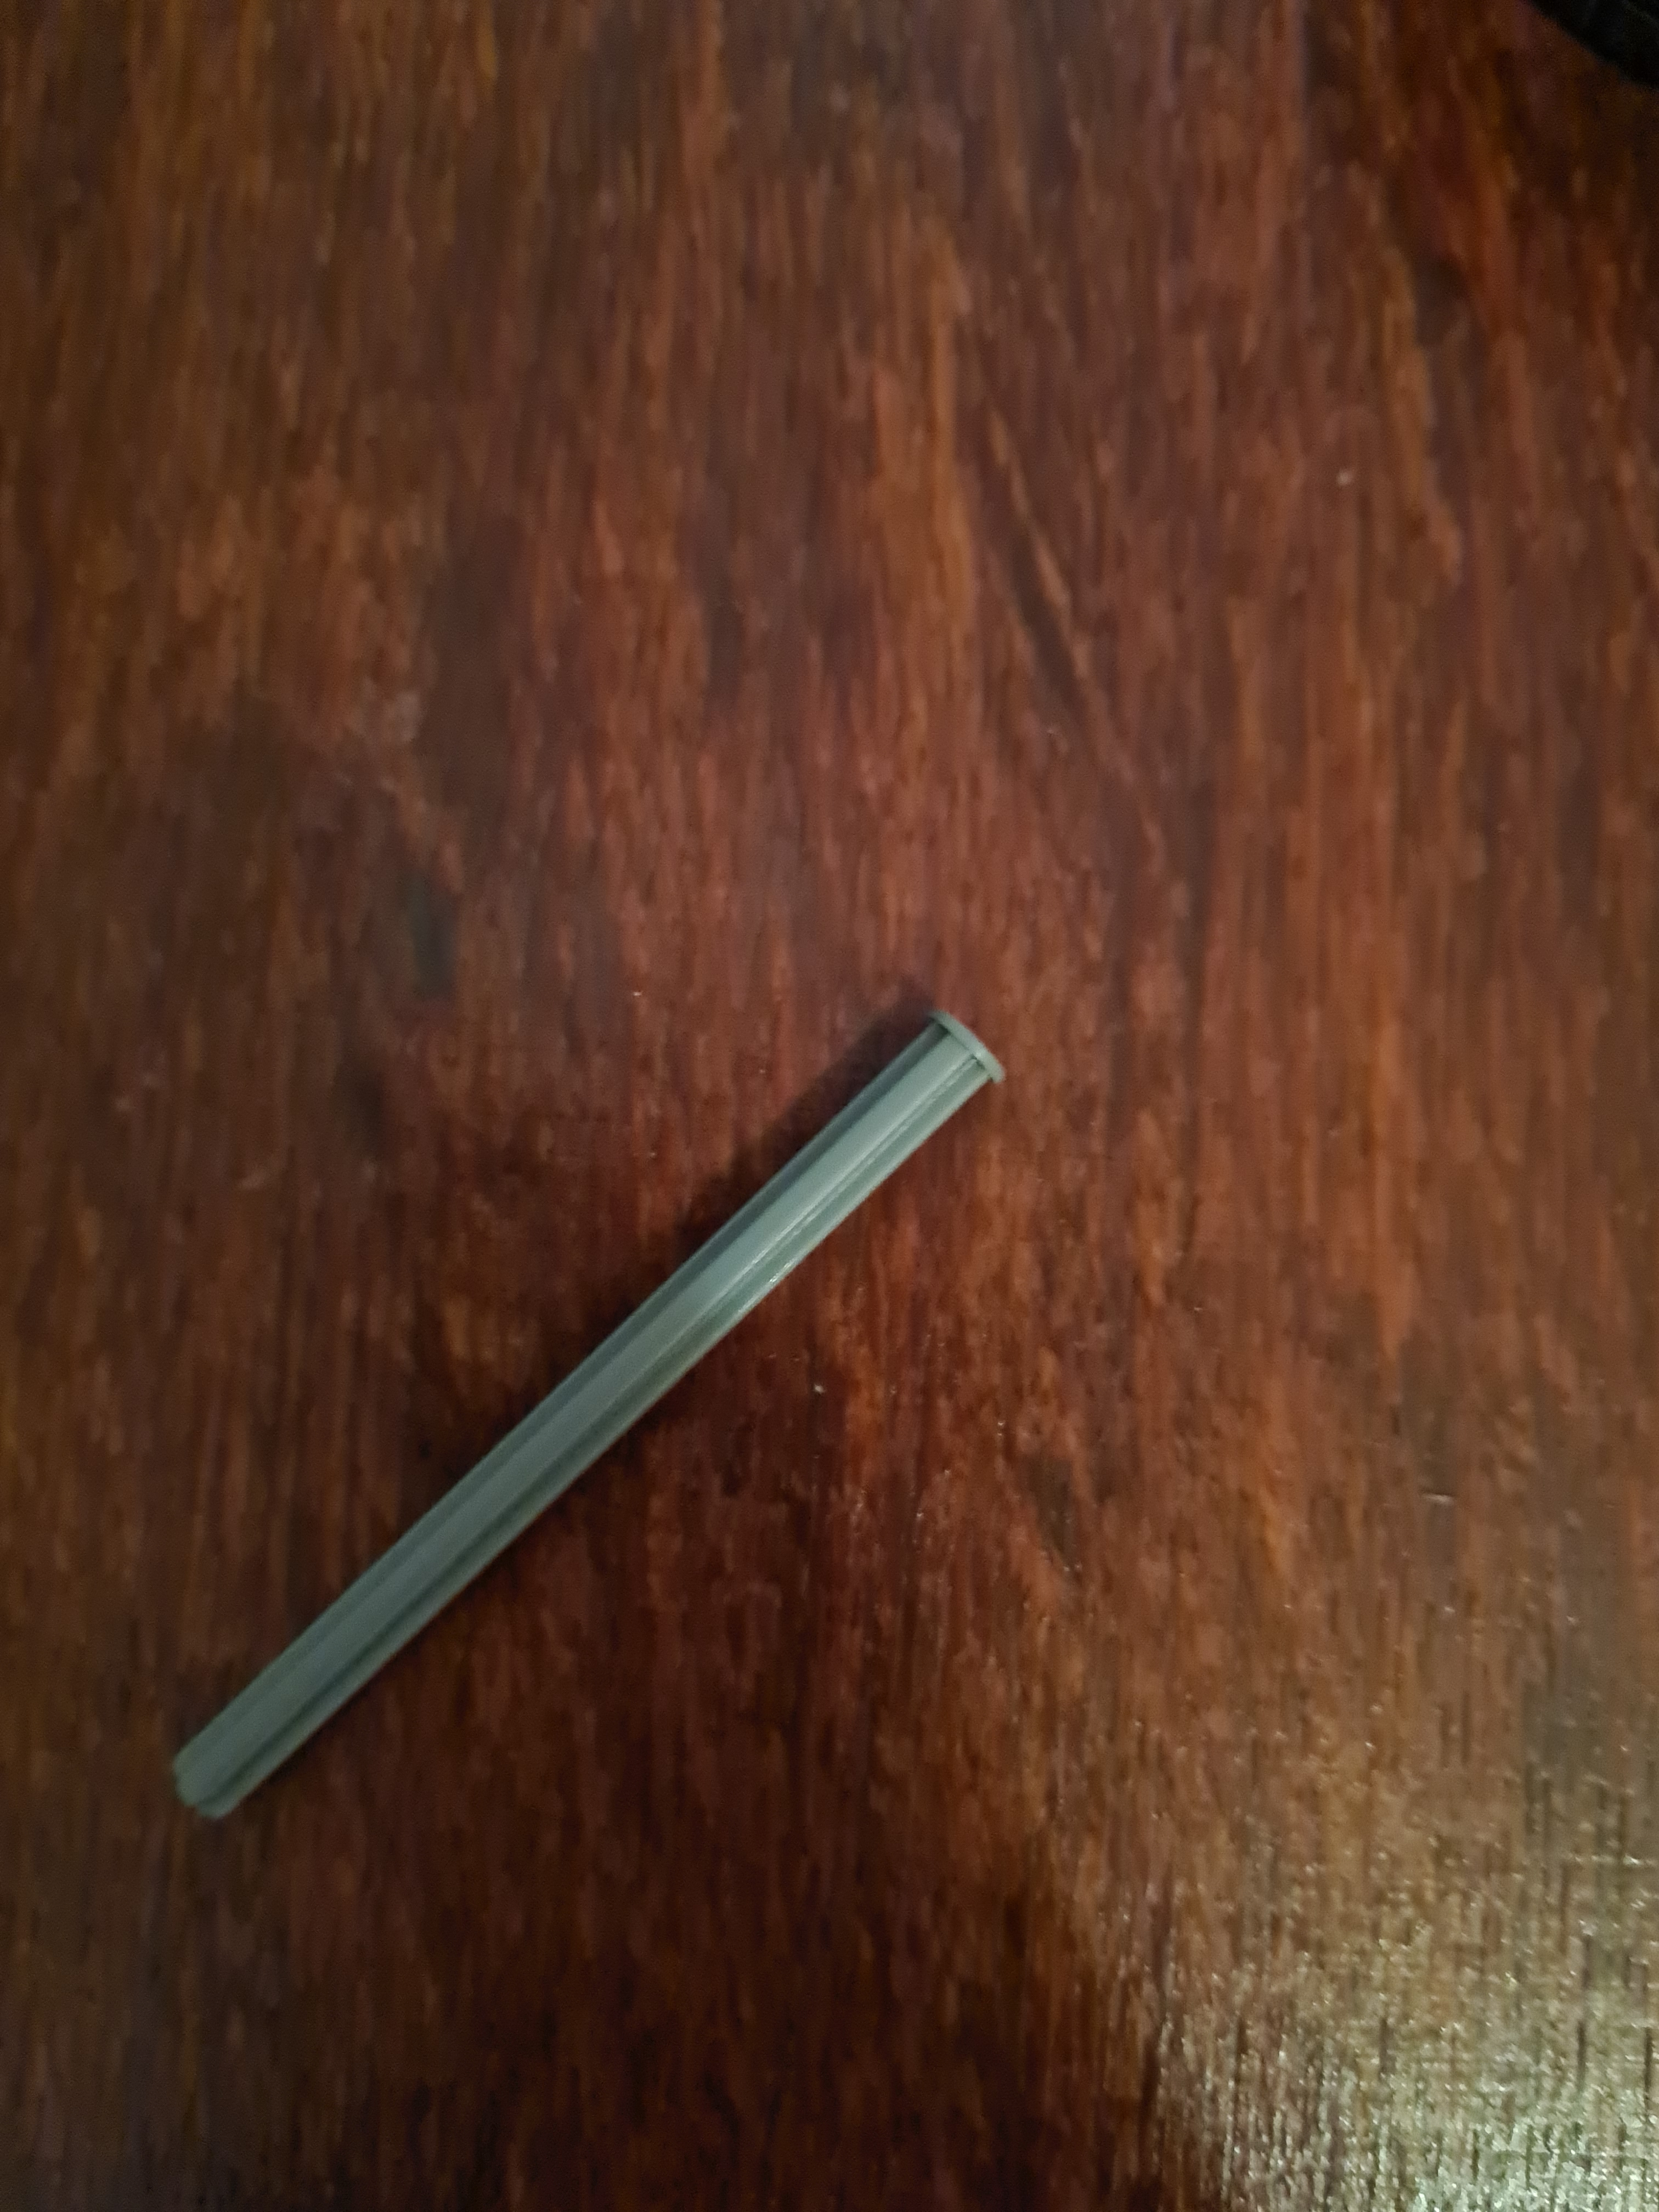Grau_lang: (157, 998, 1016, 1846)
